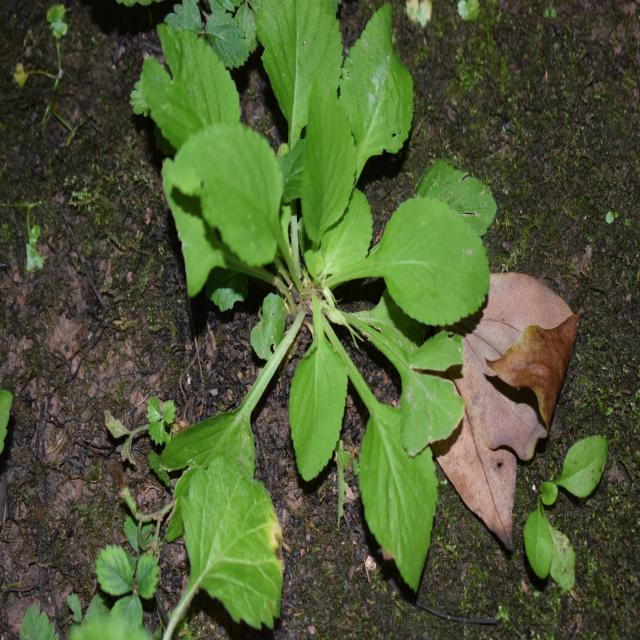Viola: (156, 29, 468, 575)
